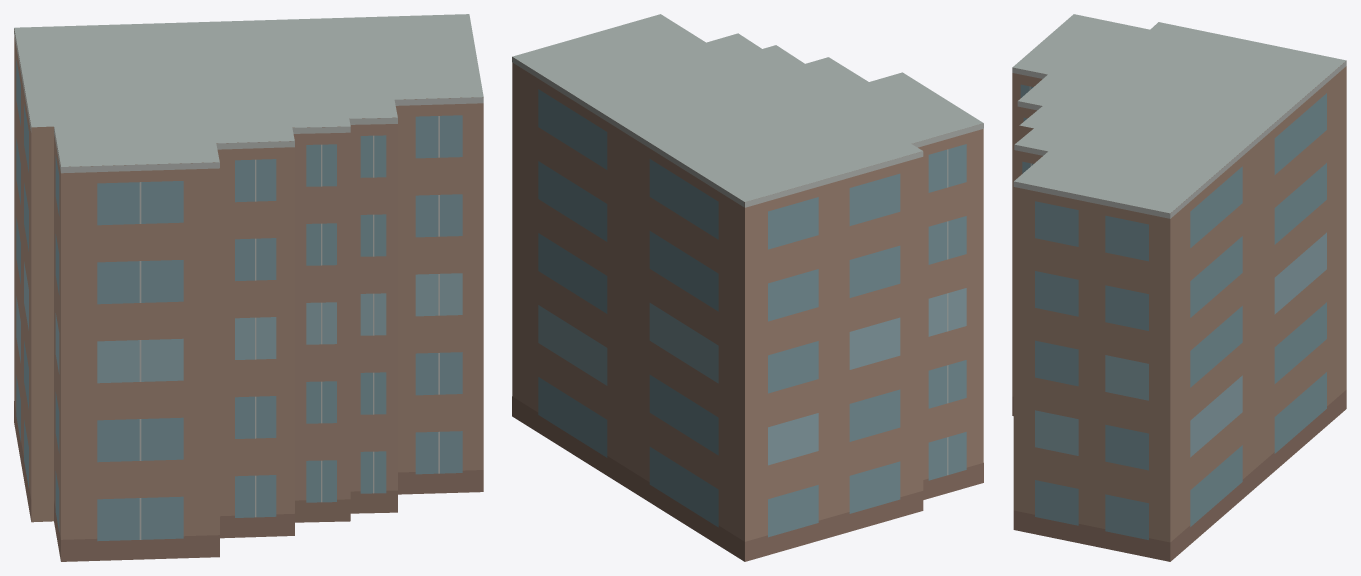
File: survey-upis-32524459.glb
3 renders of one model, left to right at view 1: azimuth 30°, elevation 25°; view 2: azimuth 150°, elevation 25°; view 3: azimuth 270°, elevation 25°, orthographic. The views are drawn at different scales.
Parts seen in each view (by area): view 1: survey-upis-32524459.tmp; view 2: survey-upis-32524459.tmp; view 3: survey-upis-32524459.tmp.
Part boxes in pixels (x1,y1,x2,y2): survey-upis-32524459.tmp: (14,14,483,561); survey-upis-32524459.tmp: (512,14,983,561); survey-upis-32524459.tmp: (1012,14,1346,561).
Bounding box in the file's own units: 19.03 × 15.5 × 13.48.
